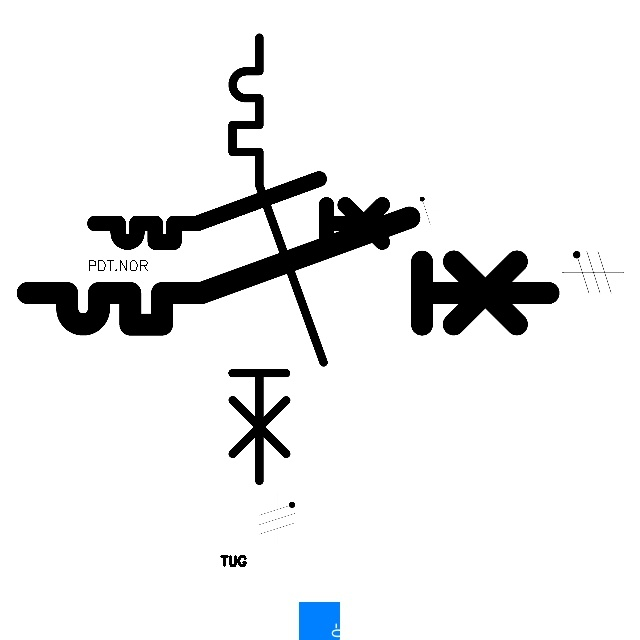interruptor_termomagnetico: (14, 204, 562, 338), (221, 26, 335, 492), (87, 171, 408, 250)
